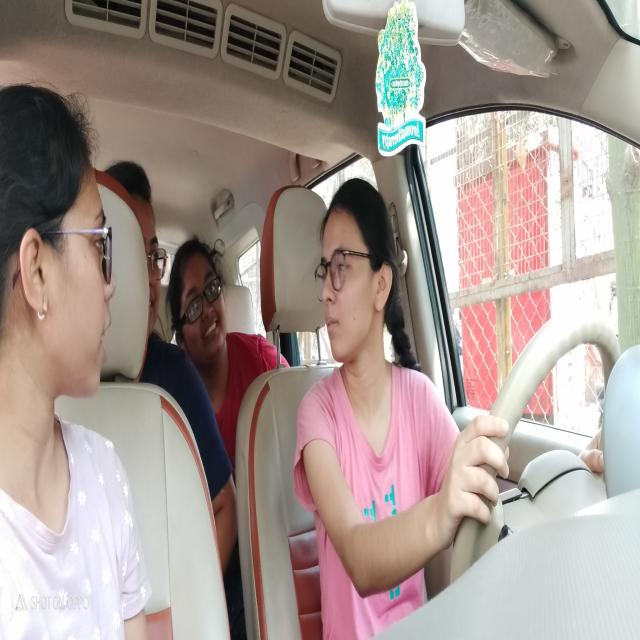LeftRight: (314, 177, 399, 368)
person: (1, 72, 119, 418), (111, 150, 165, 336), (170, 224, 228, 362)
